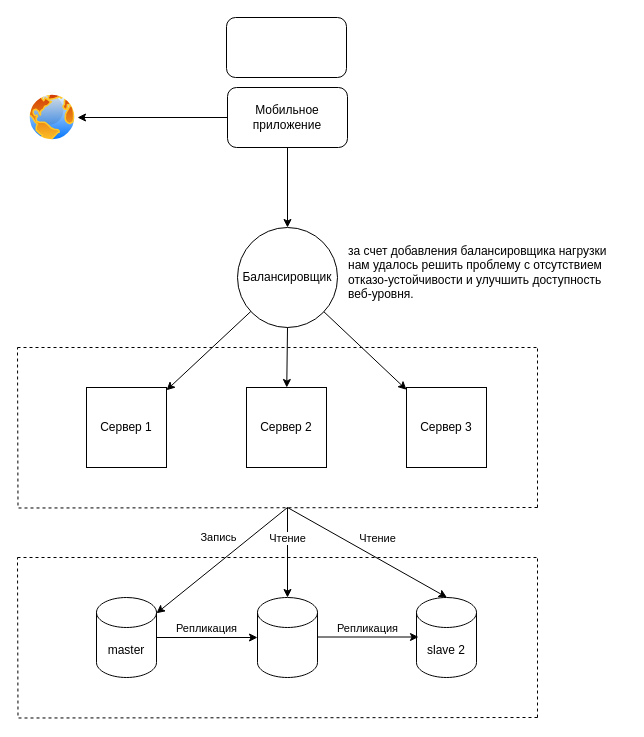
The diagram is 644 pixels wide and 737 high, and some of its shapes have lost their labels. Here are the shapes that lost their labels. From the top down, the box of each, then its label:
(226, 16, 346, 78): Веб
(27, 92, 77, 142): DNS
(256, 596, 318, 678): slave 1
